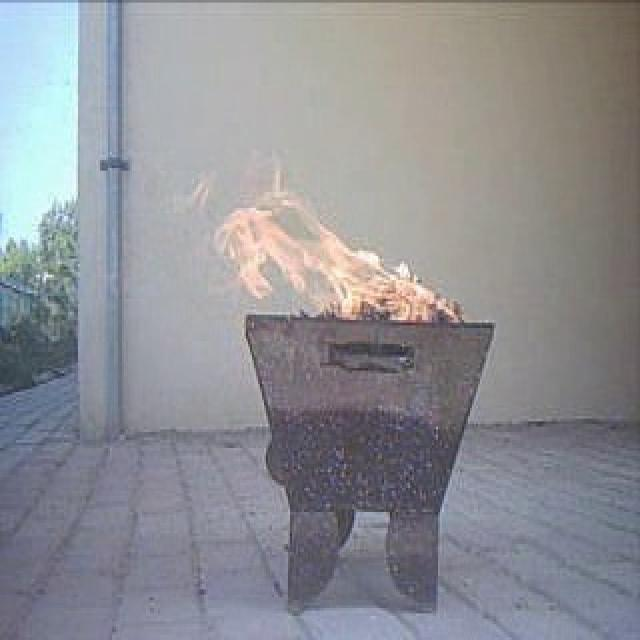fire: (190, 154, 446, 332)
